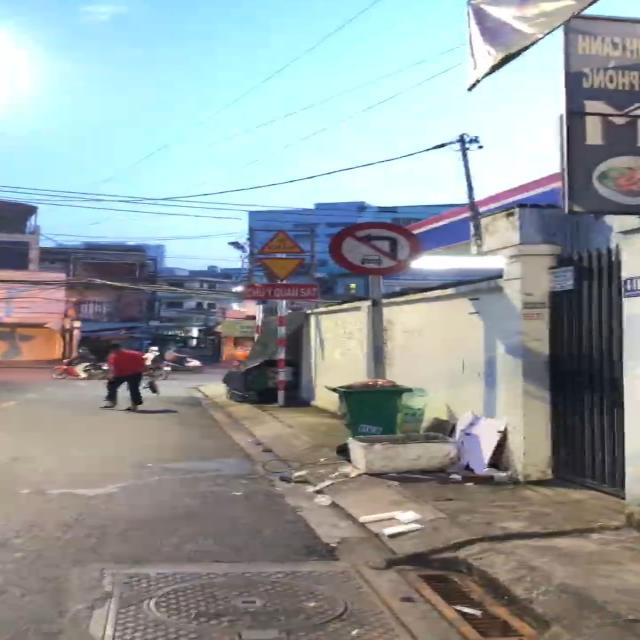Bien bao cam xe o to re trai: (328, 219, 424, 278)
Bien bao giao nhau voi duong uu tien: (250, 255, 312, 283)
